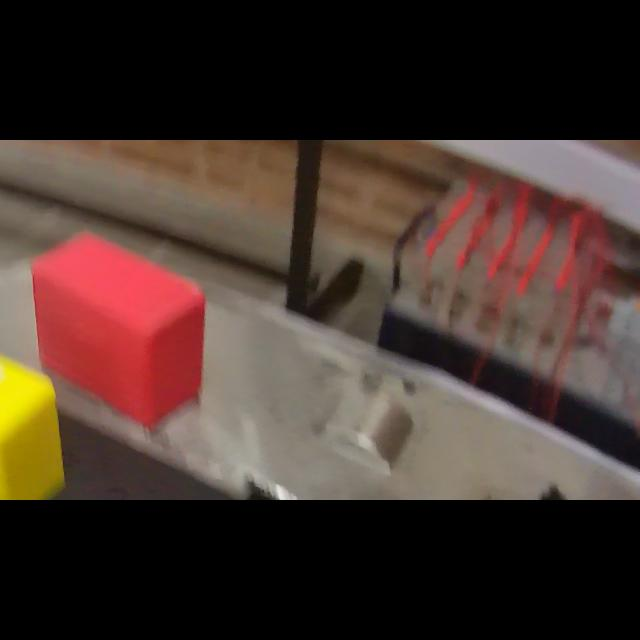redBox: (34, 222, 208, 434)
yellowBox: (0, 310, 74, 500)
